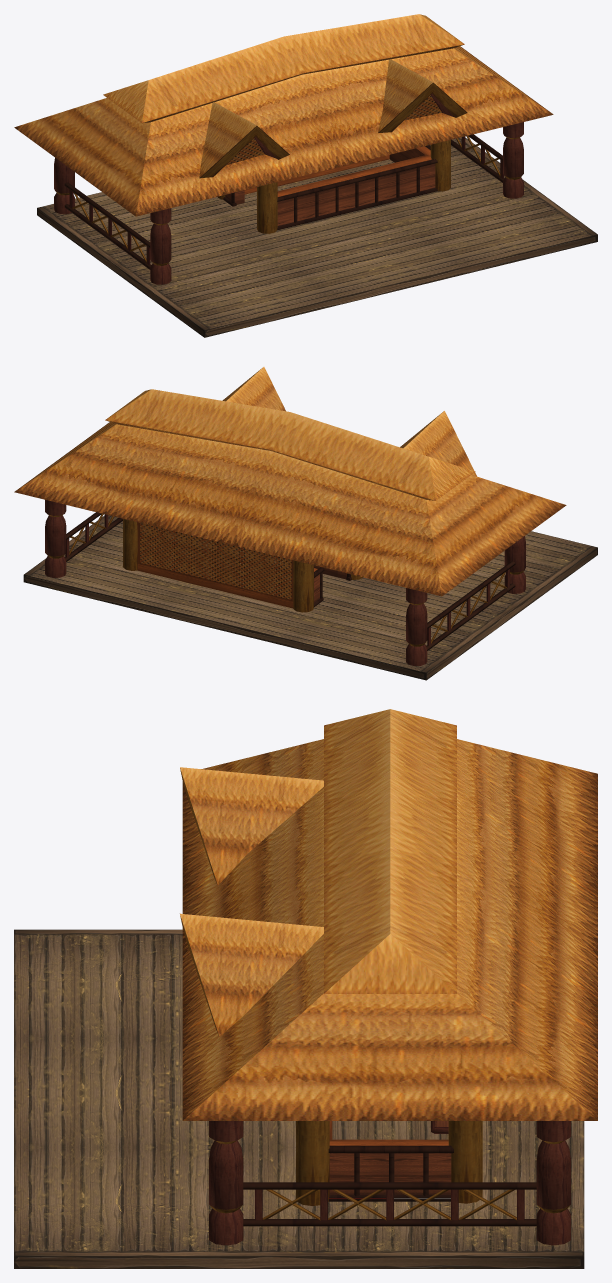
Rendered from Restaurant_01.FBX.
3 renders of one model, top to bottom at view 1: azimuth 30°, elevation 25°; view 2: azimuth 150°, elevation 25°; view 3: azimuth 270°, elevation 25°, orthographic. The views are drawn at different scales.
Visible parts, largest first — view 1: Restaurant_01; view 2: Restaurant_01; view 3: Restaurant_01.
Part boxes in pixels (box(x1,y1,x2,y2)): Restaurant_01: box(14, 14, 597, 337); Restaurant_01: box(14, 367, 597, 680); Restaurant_01: box(14, 709, 597, 1268).
Bounding box in the file's own units: 14.74 × 10.48 × 5.87.
